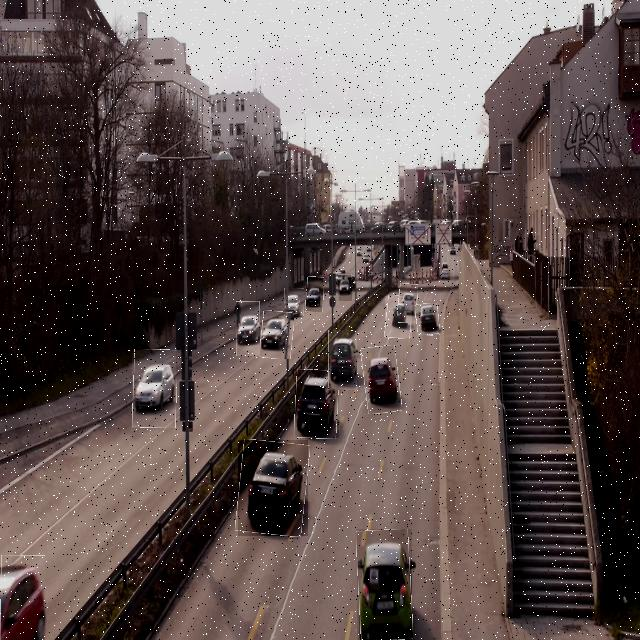Car: (238, 440, 308, 536), (357, 529, 412, 640), (0, 555, 45, 640), (132, 350, 176, 428), (295, 370, 339, 438), (363, 346, 400, 413), (328, 330, 357, 390), (260, 311, 293, 358), (237, 301, 260, 356), (385, 296, 412, 338), (398, 284, 418, 323), (416, 304, 439, 336), (306, 277, 323, 312), (284, 288, 304, 316), (338, 274, 352, 301)
